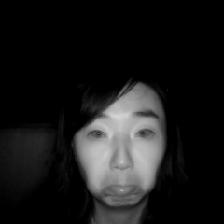sad: (56, 59, 168, 209)
